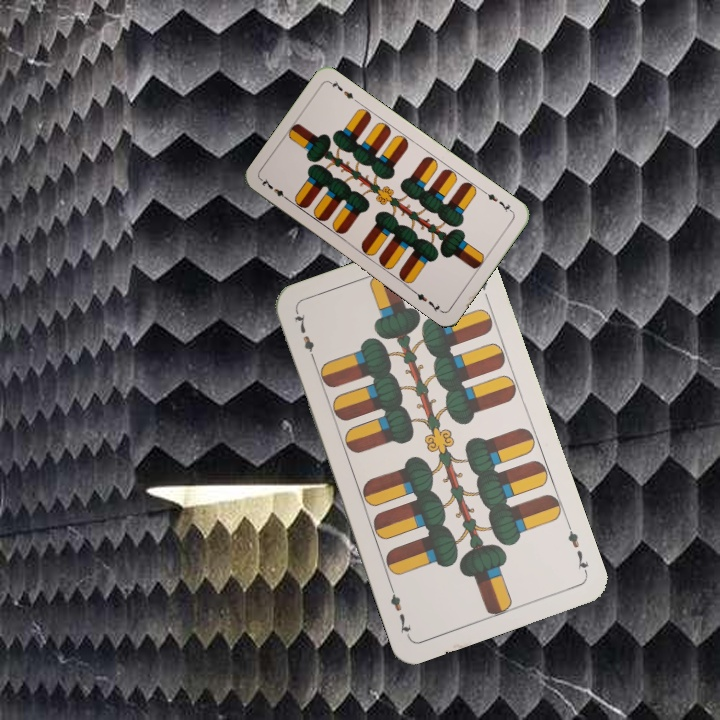E7: (563, 519, 591, 577), (291, 308, 319, 365), (480, 187, 516, 216), (257, 175, 293, 204)
